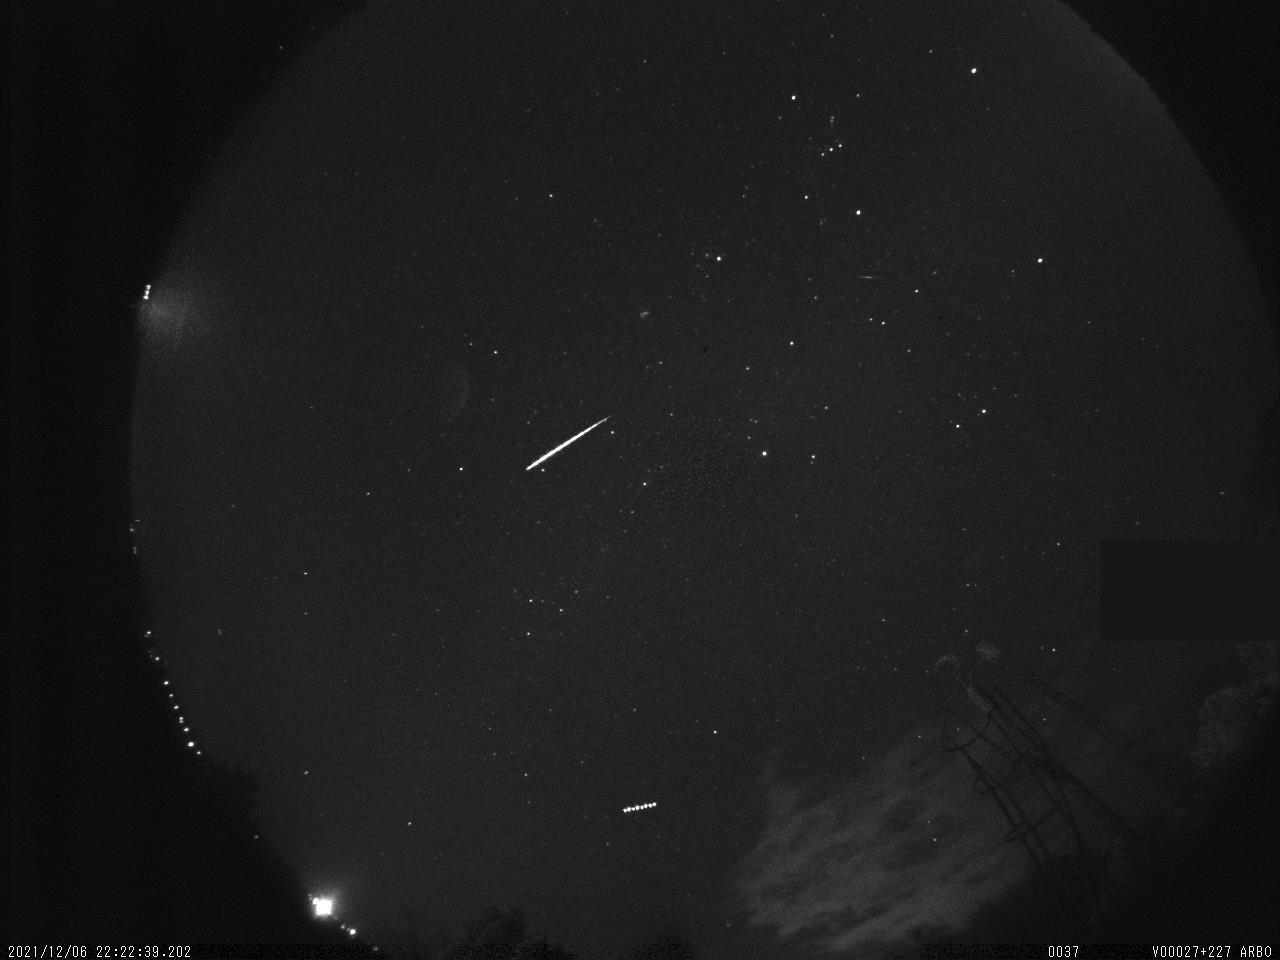meteor: (519, 401, 618, 480)
satelite: (615, 793, 665, 819)
